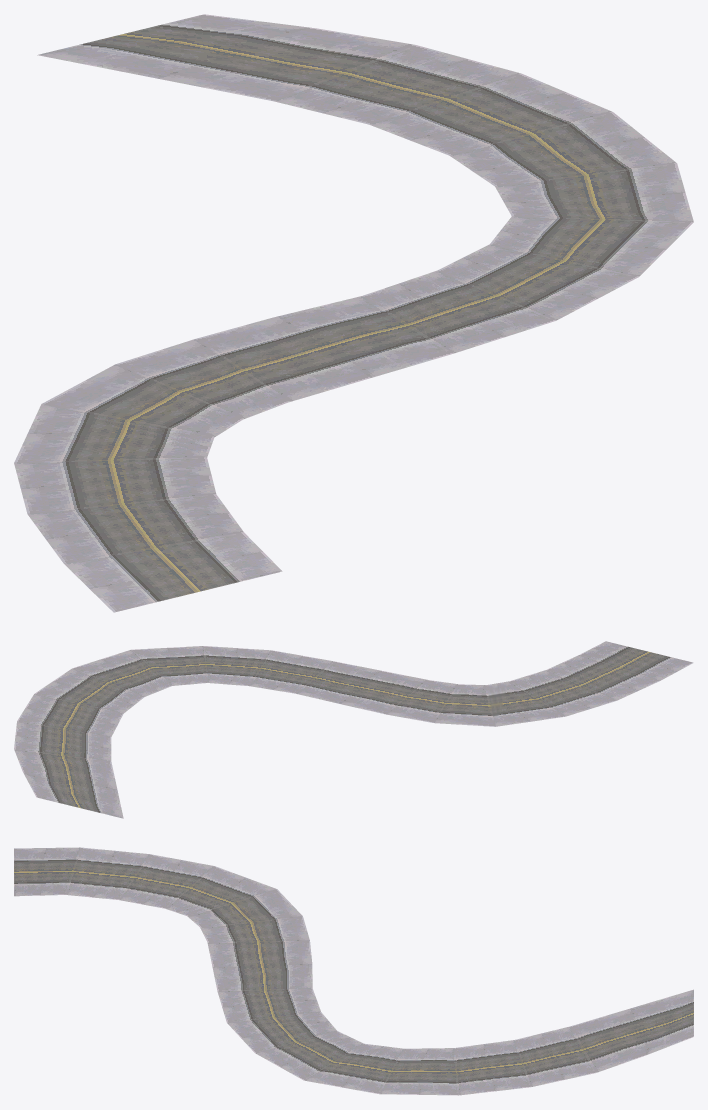
File: lodaseroad134.obj
3 renders of one model, top to bottom at view 1: azimuth 30°, elevation 25°; view 2: azimuth 150°, elevation 25°; view 3: azimuth 270°, elevation 25°, orthographic. The views are drawn at different scales.
Parts seen in each view (by area): view 1: lodasEroad134; view 2: lodasEroad134; view 3: lodasEroad134.
Part boxes in pixels (x1,y1,x2,y2): lodasEroad134: (14,14,693,612); lodasEroad134: (14,641,693,818); lodasEroad134: (14,847,693,1095).
Bounding box in the file's own units: 104 × 0.6511 × 120.
1 material, 1 textured.
